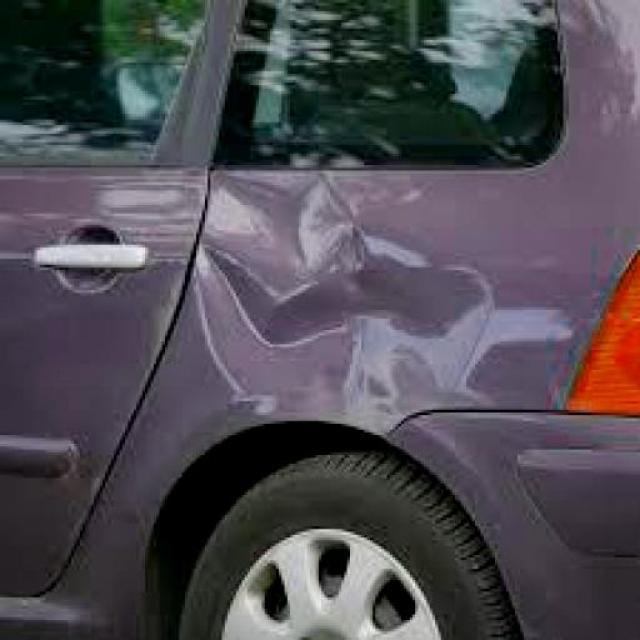Car-Damage: (182, 174, 496, 444)
